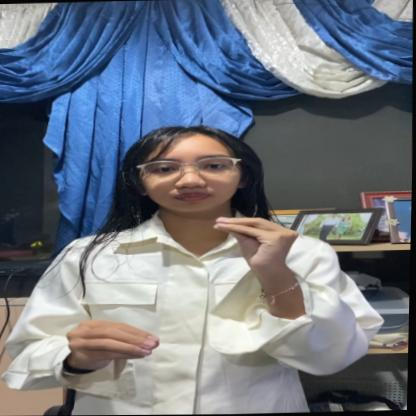Fix: (58, 209, 317, 397)
